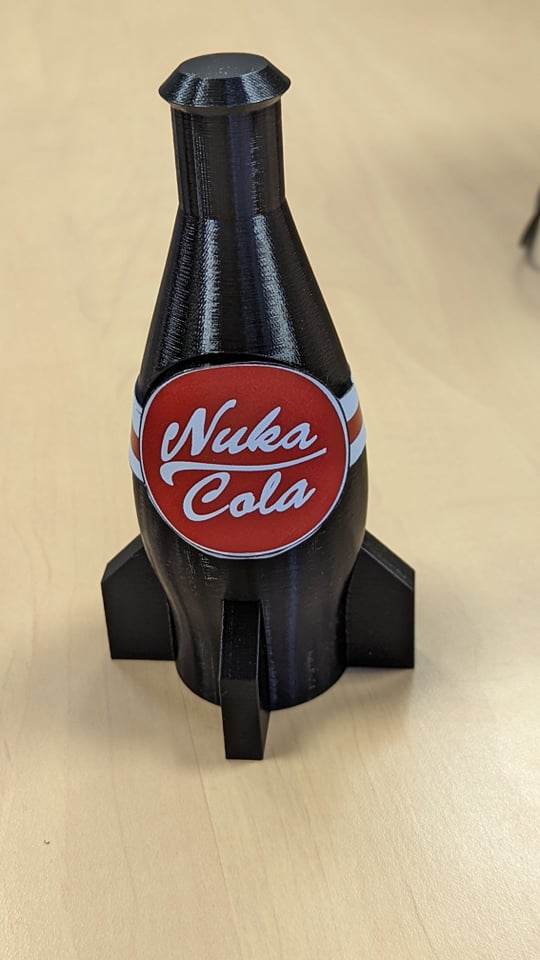bottle: (74, 42, 427, 782)
